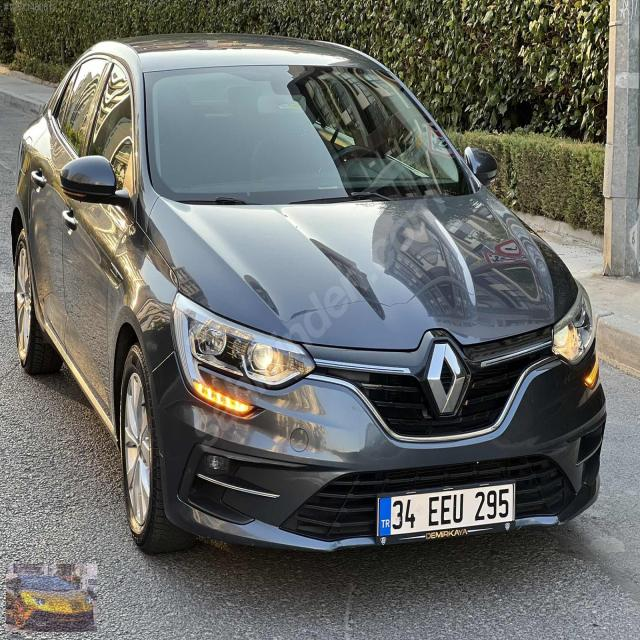renault: (428, 336, 470, 420)
